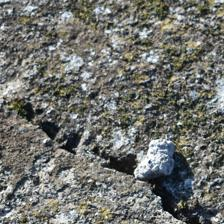Crack: (9, 52, 180, 168)
